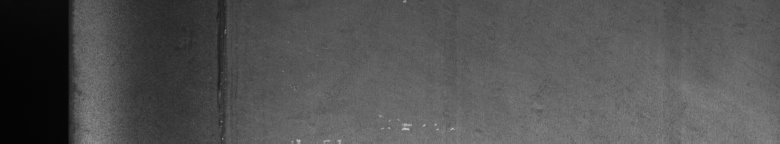hd: (209, 4, 239, 136)
